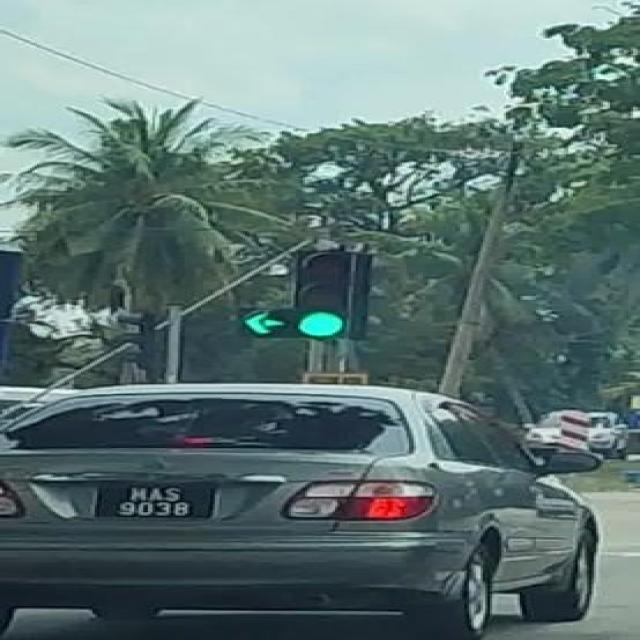green_light: (293, 247, 356, 335), (240, 254, 296, 336)
